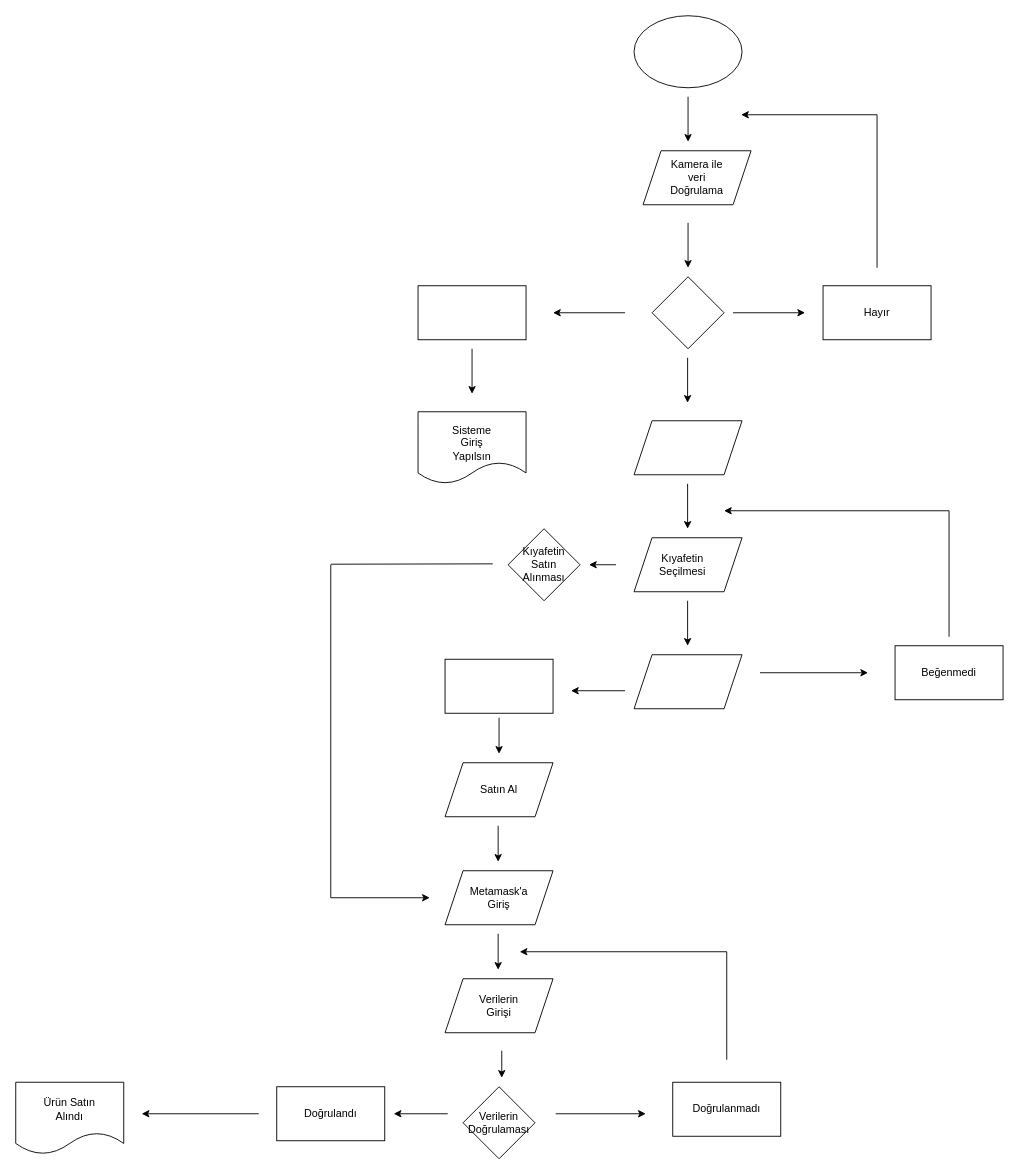
The diagram is 1019 pixels wide and 1175 high, and some of its shapes have lost their labels. The shapes that lost their labels are listed below. From the top down, each one's centre as x and y in pixels, then its label:
point (687, 51): Başla
point (471, 312): Evet
point (687, 312): Kişi Eşleştirme
point (687, 447): Kıyafet Kategorisinin Seçilmesi
point (498, 685): Beğenildi
point (687, 681): Kıyafetin Denenmesi
